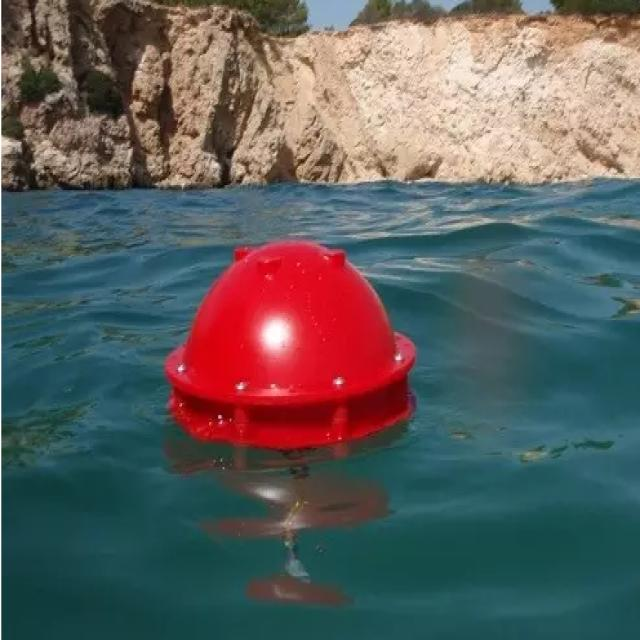buoy: (158, 221, 421, 475)
